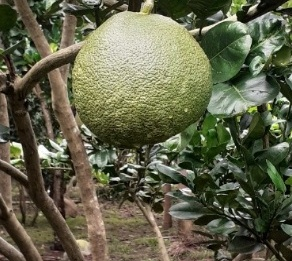Buoi: (49, 5, 213, 159)
